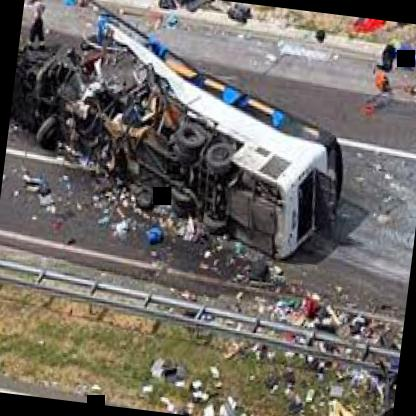accident: (2, 0, 381, 301)
